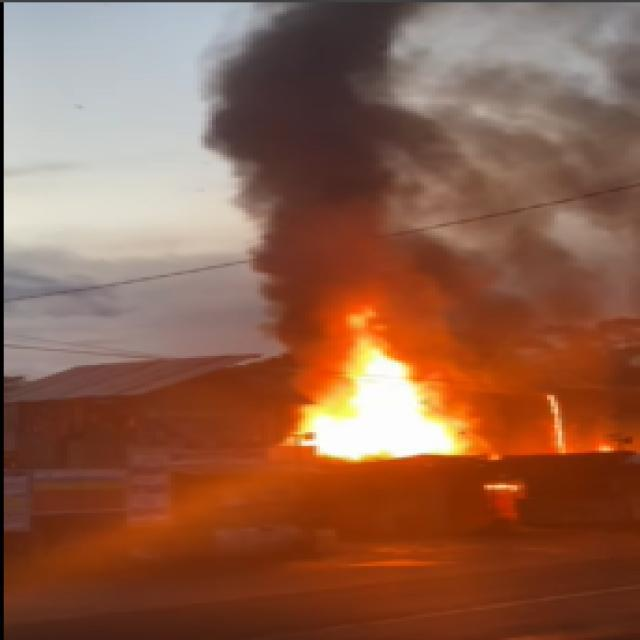Fire: (284, 303, 510, 471)
Smoke: (216, 0, 640, 427)
